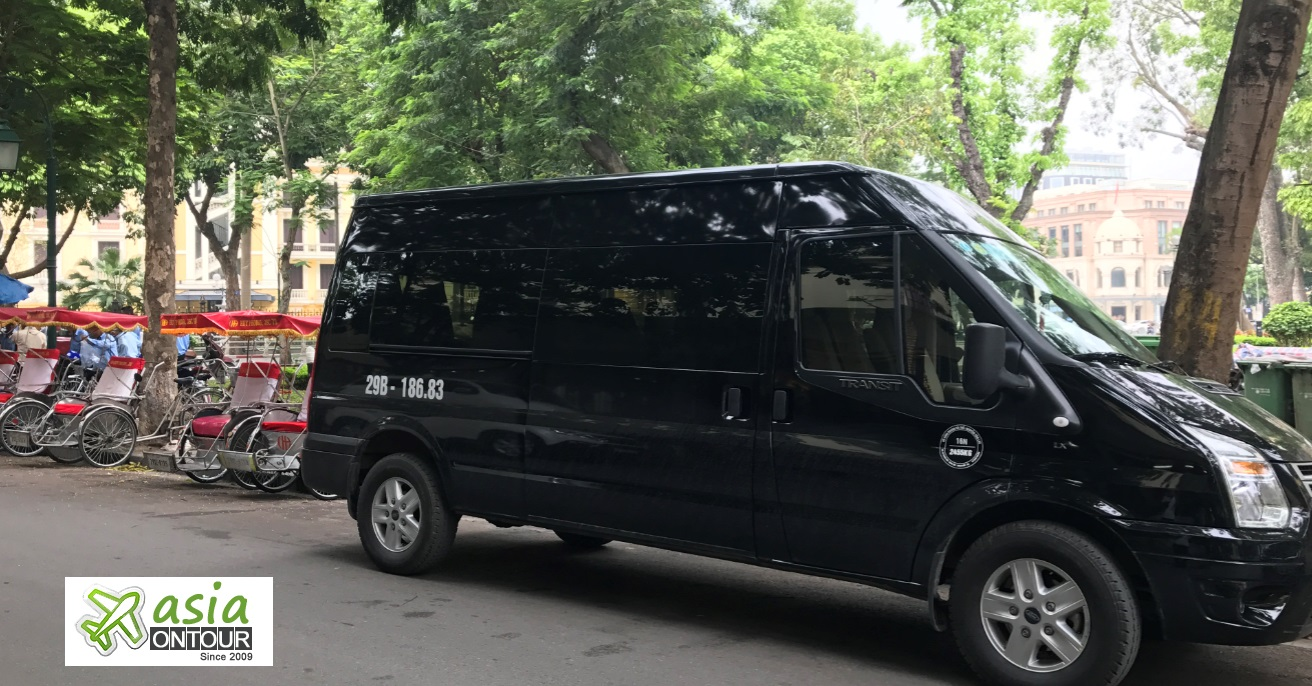van: (298, 160, 1312, 684)
